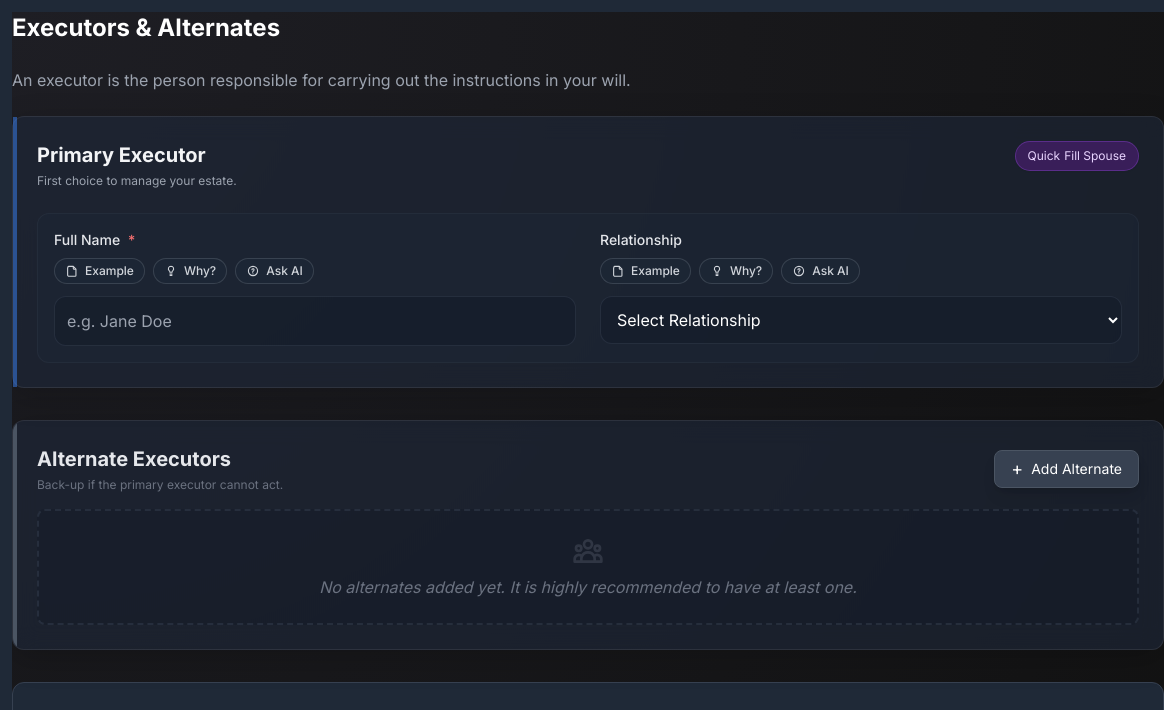
Scenario: Executors.vue › rejects self-appointment with inline validation targeting the primary field
In the field labelled "Full Name *": [315, 321] box x1=54 y1=296 x2=576 y2=346, type " Alex Doe "
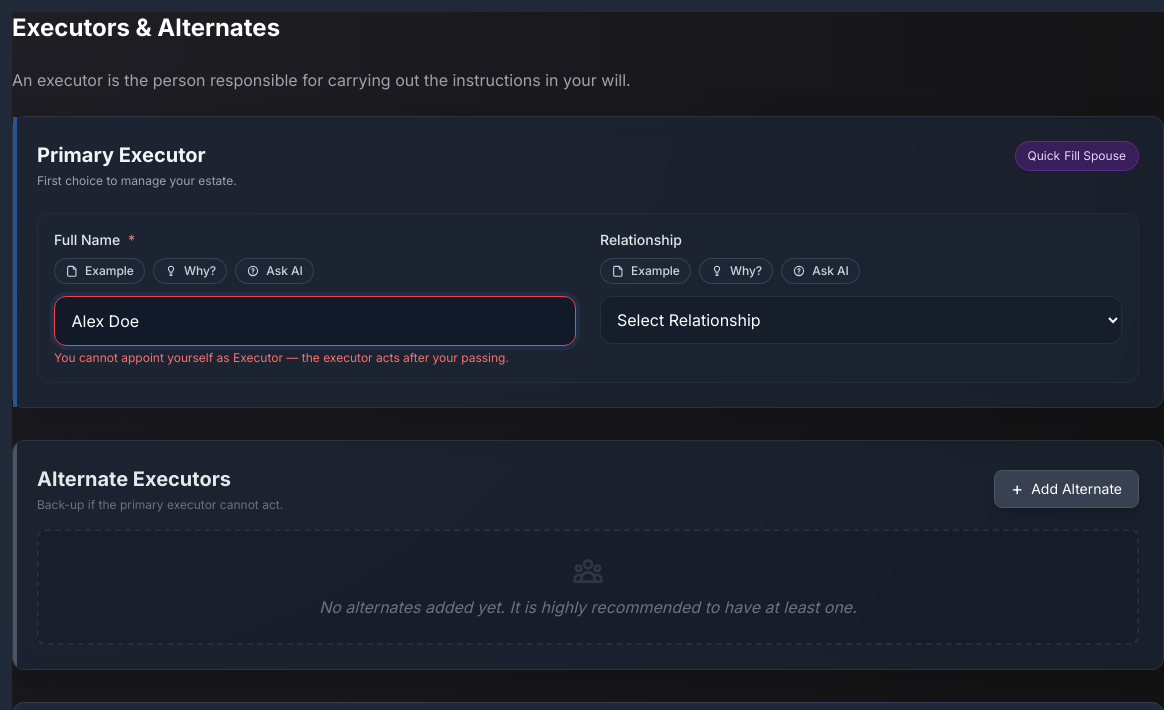
expect the text with id "executors-primary-name-error" shows "cannot appoint yourself": met, box x1=54 y1=350 x2=509 y2=365
